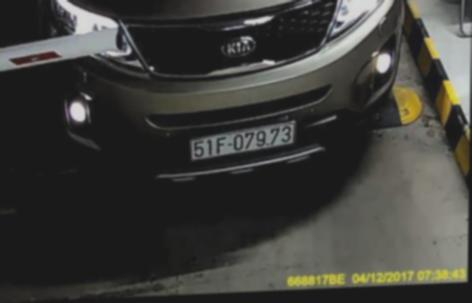License_Plate: (186, 119, 300, 158)
